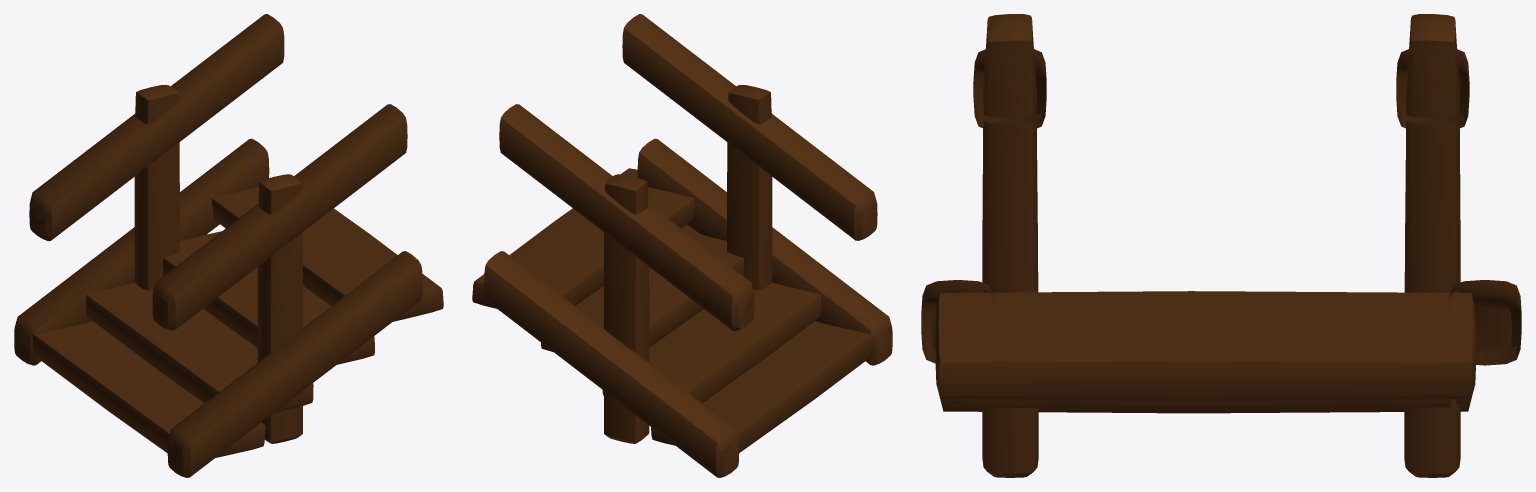
File: Stairs_Modular_Start.obj
3 renders of one model, left to right at view 1: azimuth 30°, elevation 25°; view 2: azimuth 150°, elevation 25°; view 3: azimuth 270°, elevation 25°, orthographic. The views are drawn at different scales.
Visible parts, largest first — view 1: Stairs_Modular_Start_Cube.058; view 2: Stairs_Modular_Start_Cube.058; view 3: Stairs_Modular_Start_Cube.058.
Boxes of the visible parts, x1,y1,x2,y2 form: Stairs_Modular_Start_Cube.058: [14, 14, 443, 477]; Stairs_Modular_Start_Cube.058: [472, 14, 892, 477]; Stairs_Modular_Start_Cube.058: [921, 14, 1521, 477].
Size of the model in its own units: 2.24 by 2.43 by 2.56.
